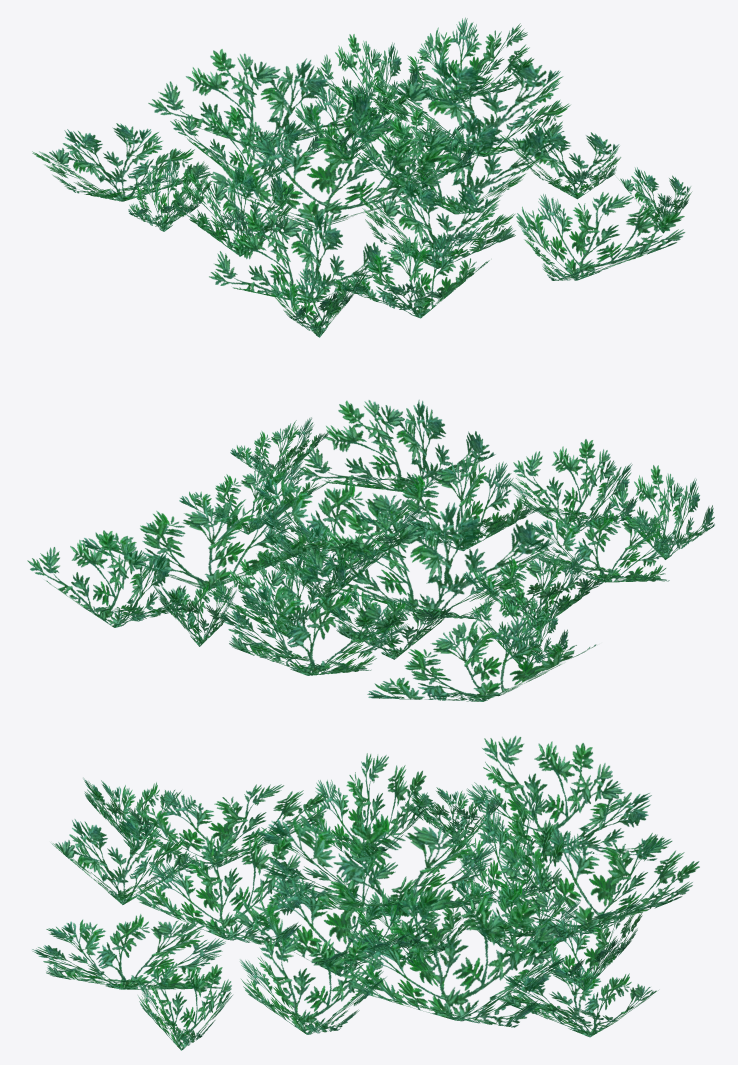
The model's file is grass1_31.glb.
3 renders of one model, top to bottom at view 1: azimuth 30°, elevation 25°; view 2: azimuth 150°, elevation 25°; view 3: azimuth 270°, elevation 25°, orthographic. The views are drawn at different scales.
Parts seen in each view (by area): view 1: grass1_31; view 2: grass1_31; view 3: grass1_31.
Part boxes in pixels (left/top/right/bottom): grass1_31: left=32, top=17, right=691, bottom=337; grass1_31: left=27, top=399, right=714, bottom=701; grass1_31: left=32, top=735, right=699, bottom=1050.
Size of the model in its own units: 5.65 by 0.8598 by 5.94.
1 material, 1 textured.
